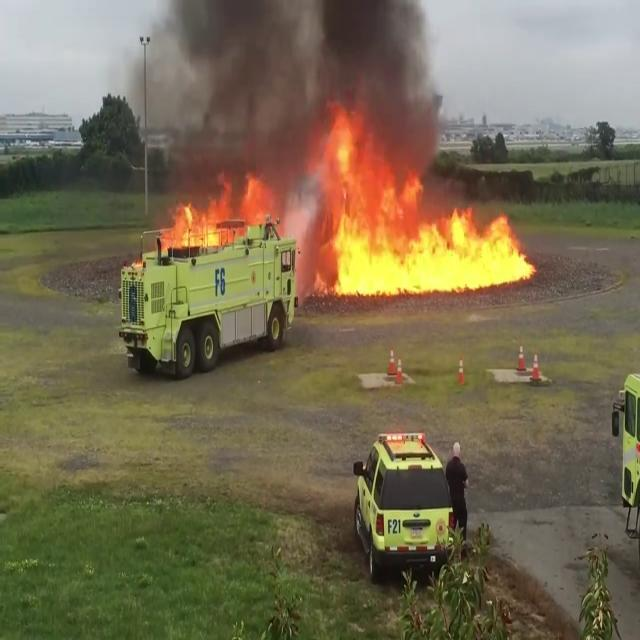Fire: (154, 124, 536, 306)
Smoke: (134, 1, 462, 168)
